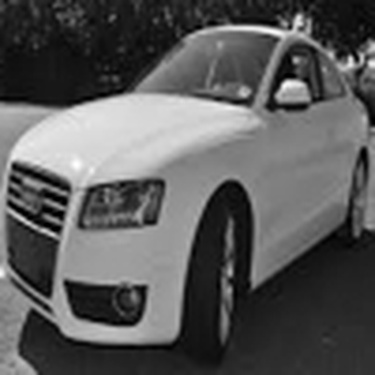car: (7, 1, 369, 370)
